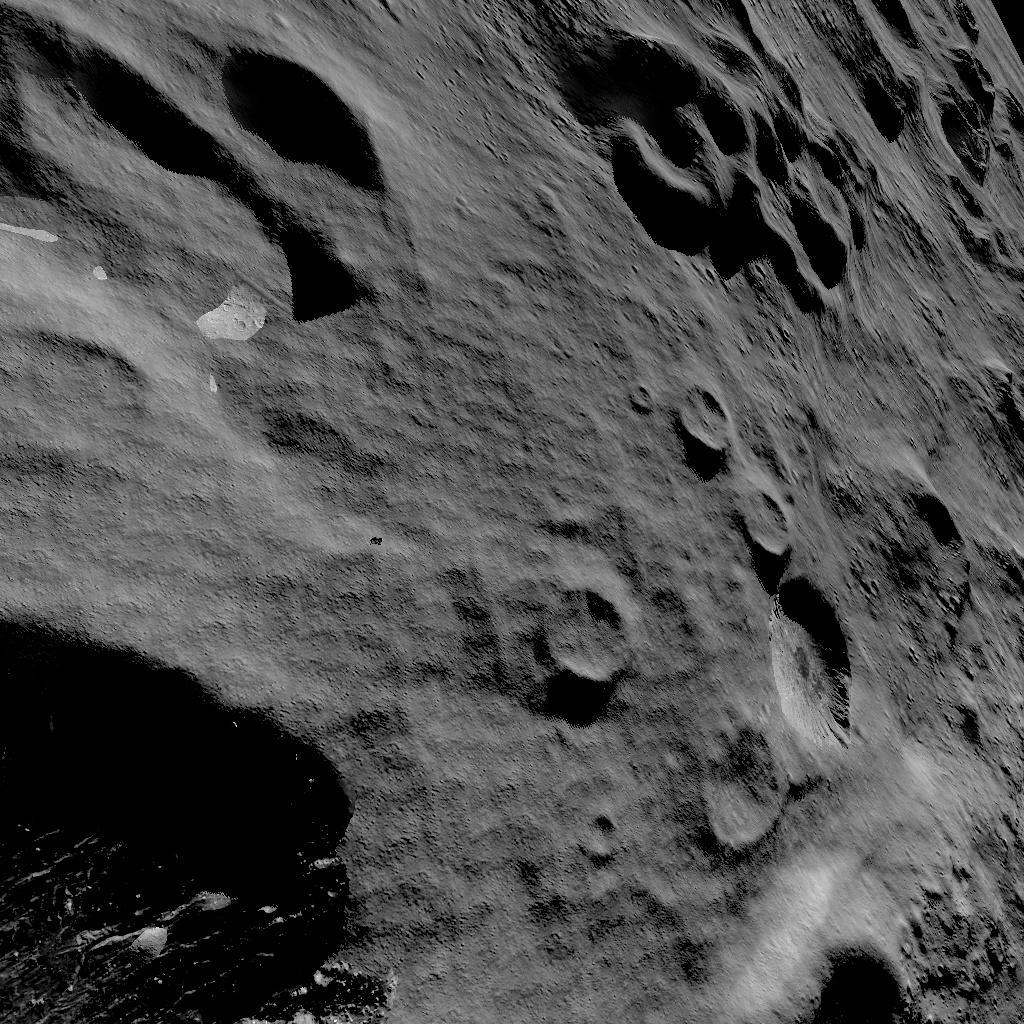Crater: (3, 600, 423, 1024), (1, 0, 389, 321), (563, 26, 879, 302), (681, 580, 863, 848), (881, 480, 978, 650), (931, 0, 1017, 178), (787, 926, 927, 1024), (539, 576, 637, 706), (671, 380, 743, 460), (731, 488, 794, 561)
Plan surface: (3, 328, 519, 578), (403, 0, 549, 315)
